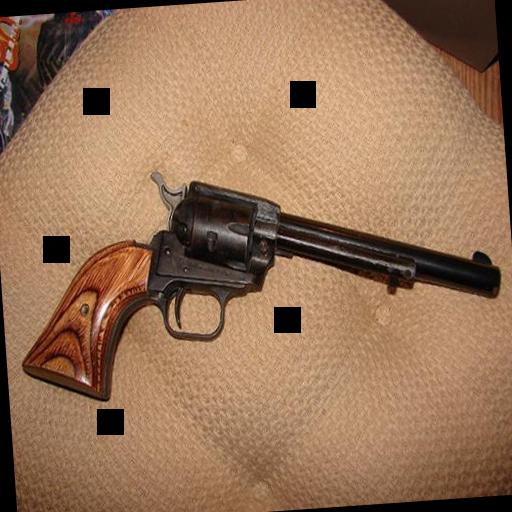Handgun: (1, 144, 507, 407)
